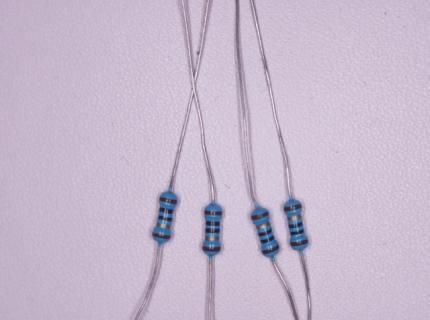Black band: (258, 228, 273, 238), (260, 236, 275, 245), (290, 228, 305, 237), (157, 214, 173, 222), (288, 221, 303, 229), (159, 207, 174, 214), (206, 220, 220, 226), (205, 228, 220, 233)
Brown band: (251, 211, 270, 222), (261, 245, 280, 255), (290, 239, 310, 248), (283, 203, 303, 212), (152, 232, 171, 241), (159, 197, 178, 205), (202, 246, 221, 252), (204, 210, 223, 216)
Gold band: (256, 221, 271, 230), (156, 222, 171, 230), (287, 214, 302, 221), (205, 236, 220, 242)
